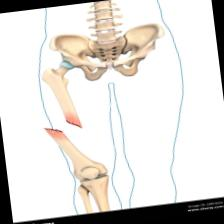open-compound-fracture: (28, 0, 187, 219)
